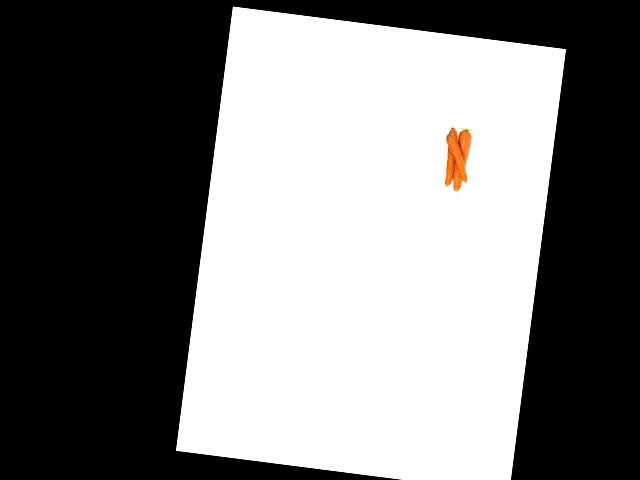carrot: (440, 122, 461, 188)
